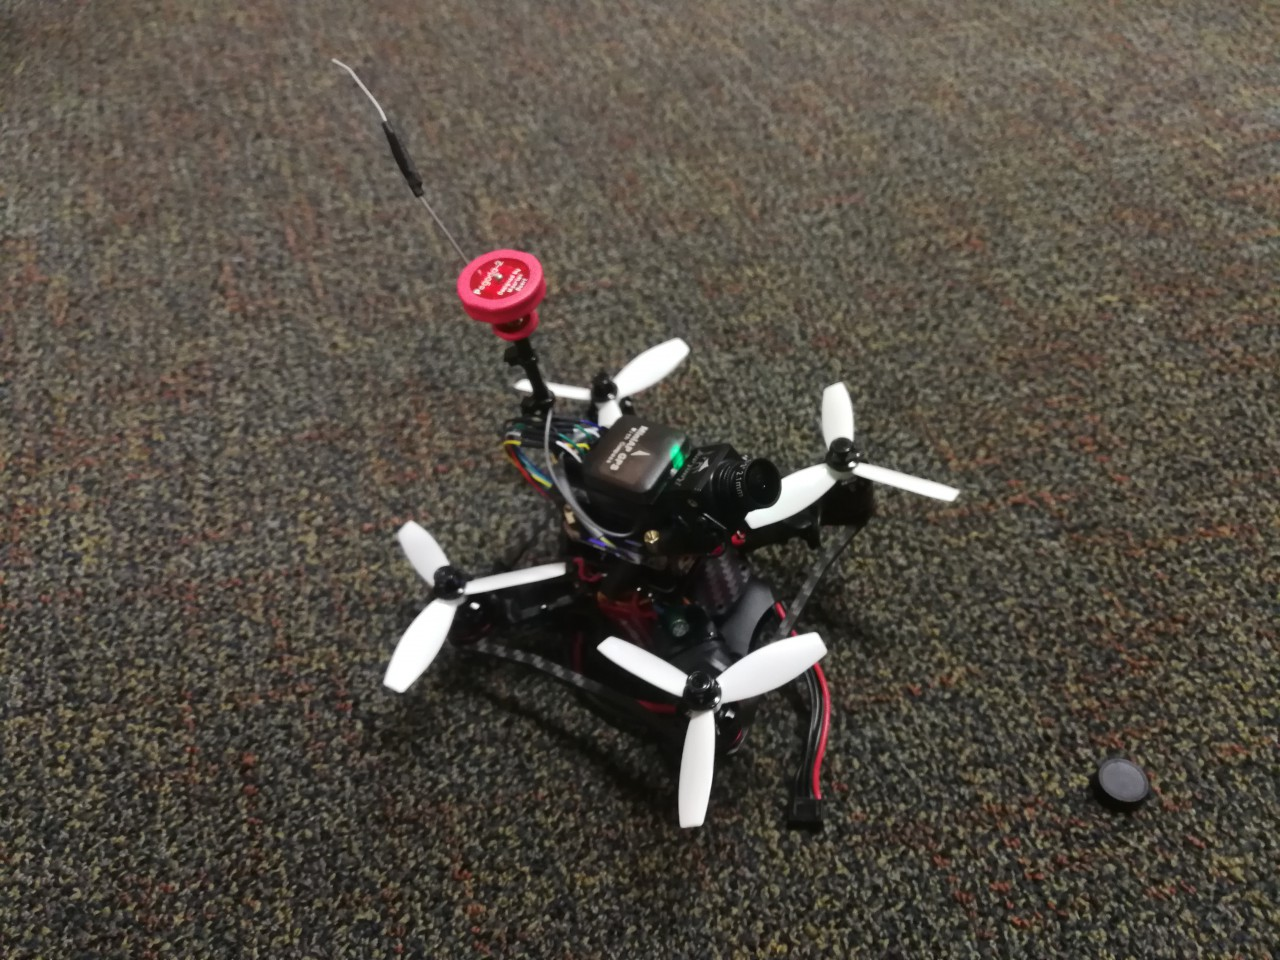drone: (326, 53, 963, 843)
